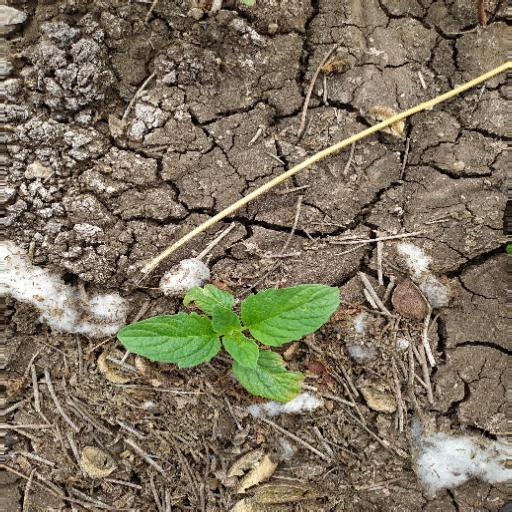crop: (114, 277, 357, 409)
